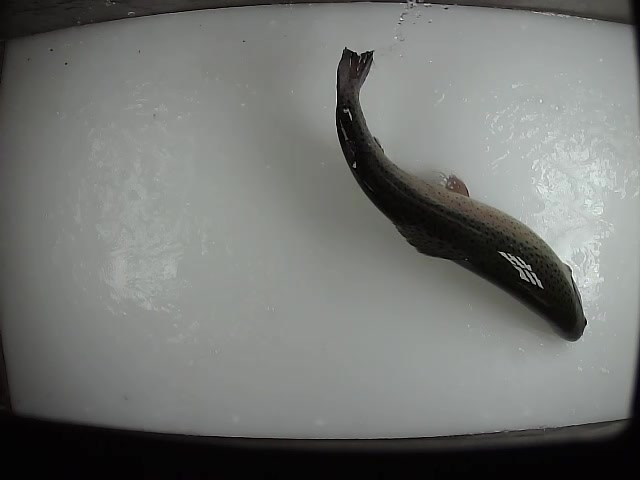Fish: (334, 46, 588, 342)
